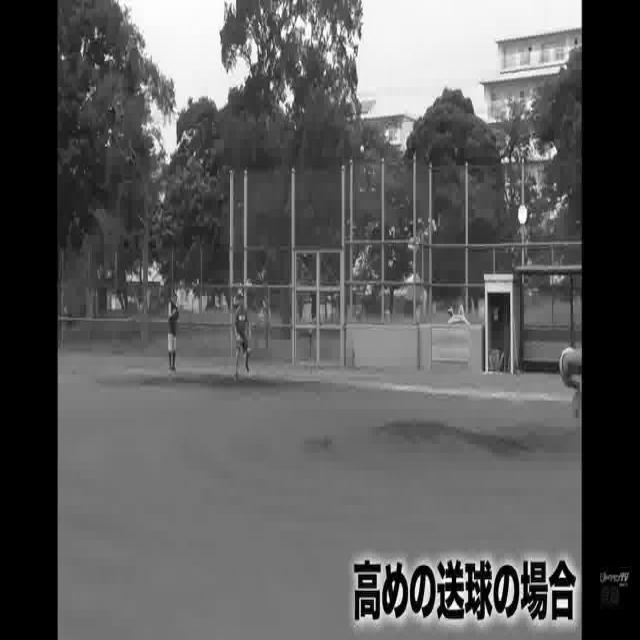baseball: (360, 146, 365, 154)
